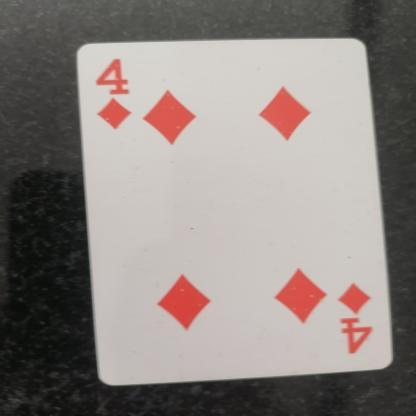4D: (96, 48, 145, 145), (328, 284, 390, 358)
